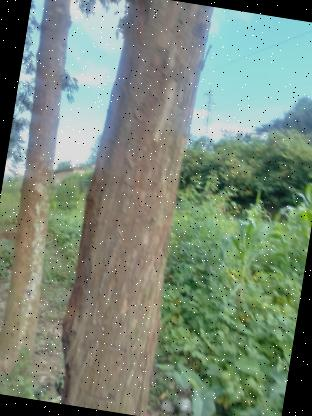tree: (44, 0, 223, 416), (0, 0, 95, 398)
